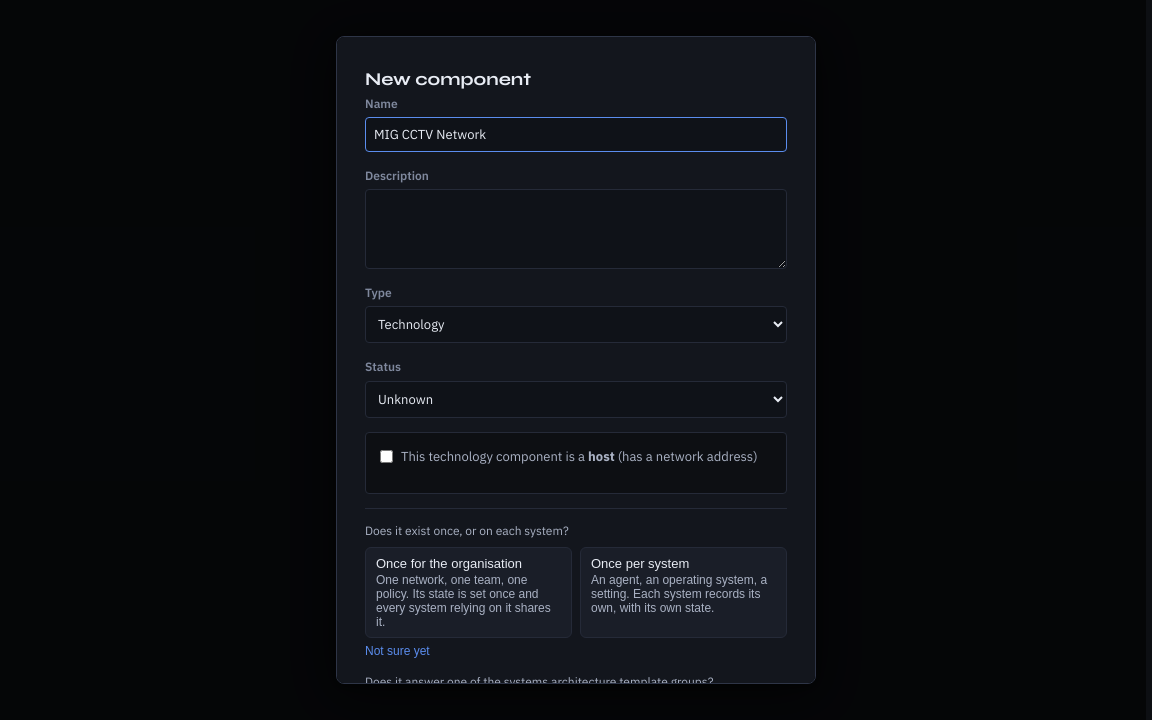
the one panel a component is created from › once per system says what that means for a security solution
Click the button "Once per system": [684, 592] box [580,546,787,638]
(page scrolled)
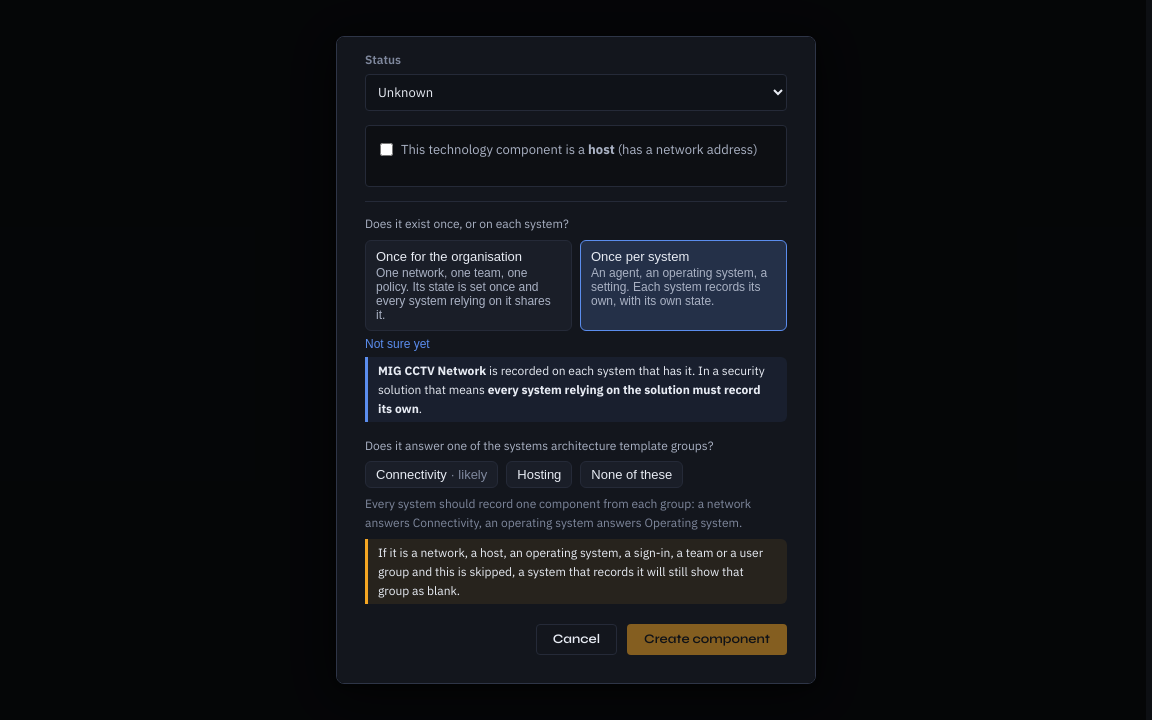
Expected: the text "every system relying on the solution must record its own" is shown, [378,382,760,416]
